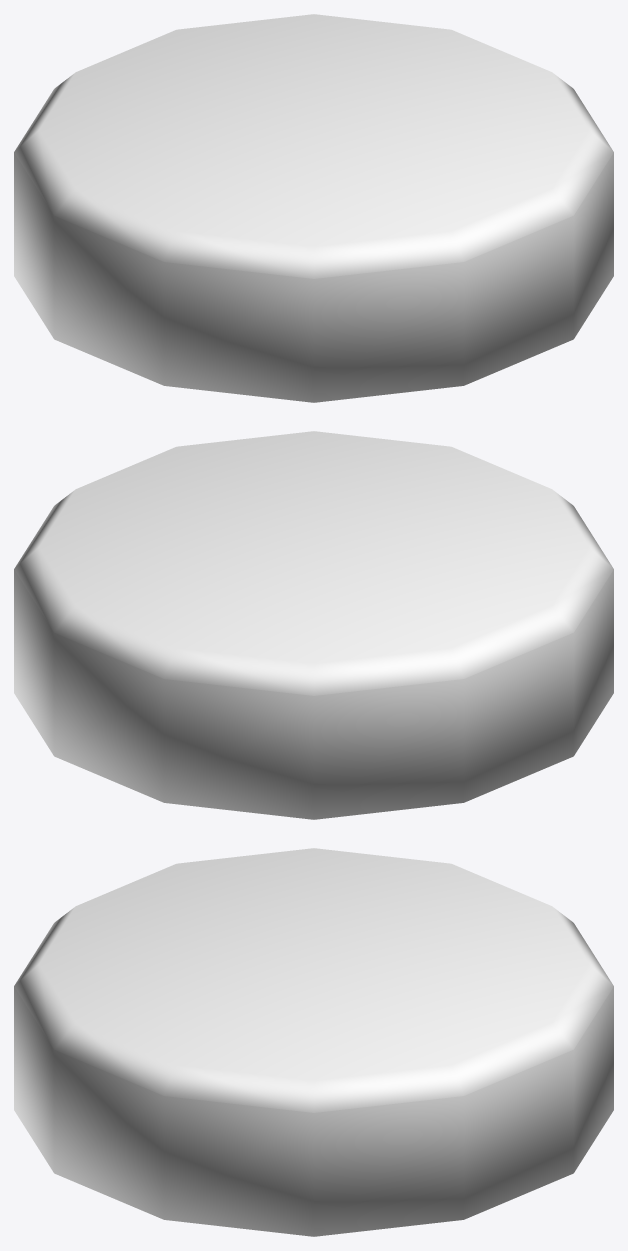
The model's file is shelf.fbx.
3 renders of one model, top to bottom at view 1: azimuth 30°, elevation 25°; view 2: azimuth 150°, elevation 25°; view 3: azimuth 270°, elevation 25°, orthographic.
Visible parts, largest first — view 1: shelf; view 2: shelf; view 3: shelf.
Part boxes in pixels (x1,y1,x2,y2): shelf: [14, 14, 613, 402]; shelf: [14, 431, 613, 819]; shelf: [14, 848, 613, 1236].
Bounding box in the file's own units: 0.9441 × 0.253 × 0.9441.
